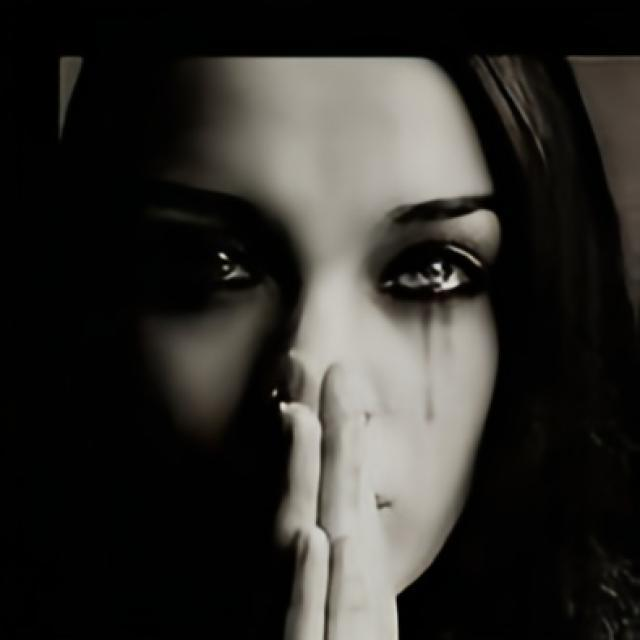sad: (142, 60, 504, 603)
